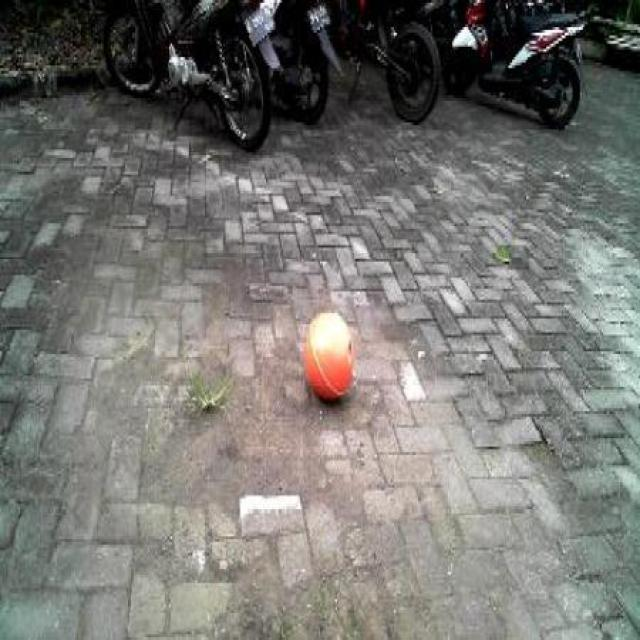buoy: (298, 295, 358, 410)
